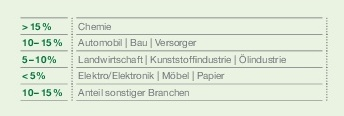table: (0, 0, 344, 116)
